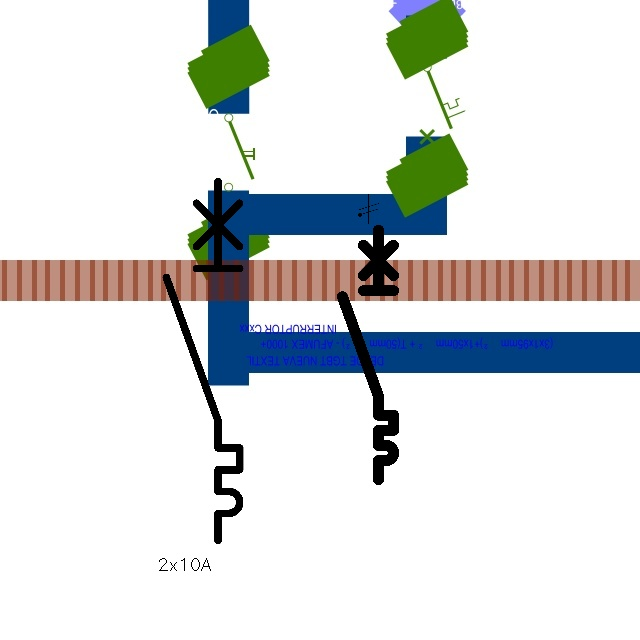interruptor_termomagnetico: (157, 172, 249, 550), (336, 223, 400, 485)
